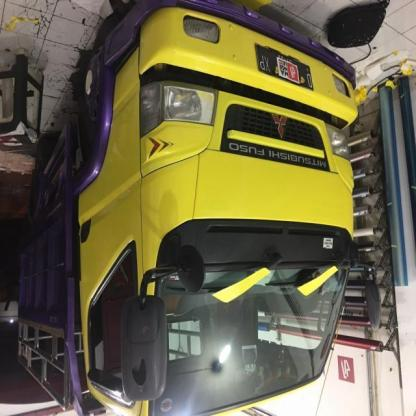truck: (1, 12, 374, 416)
